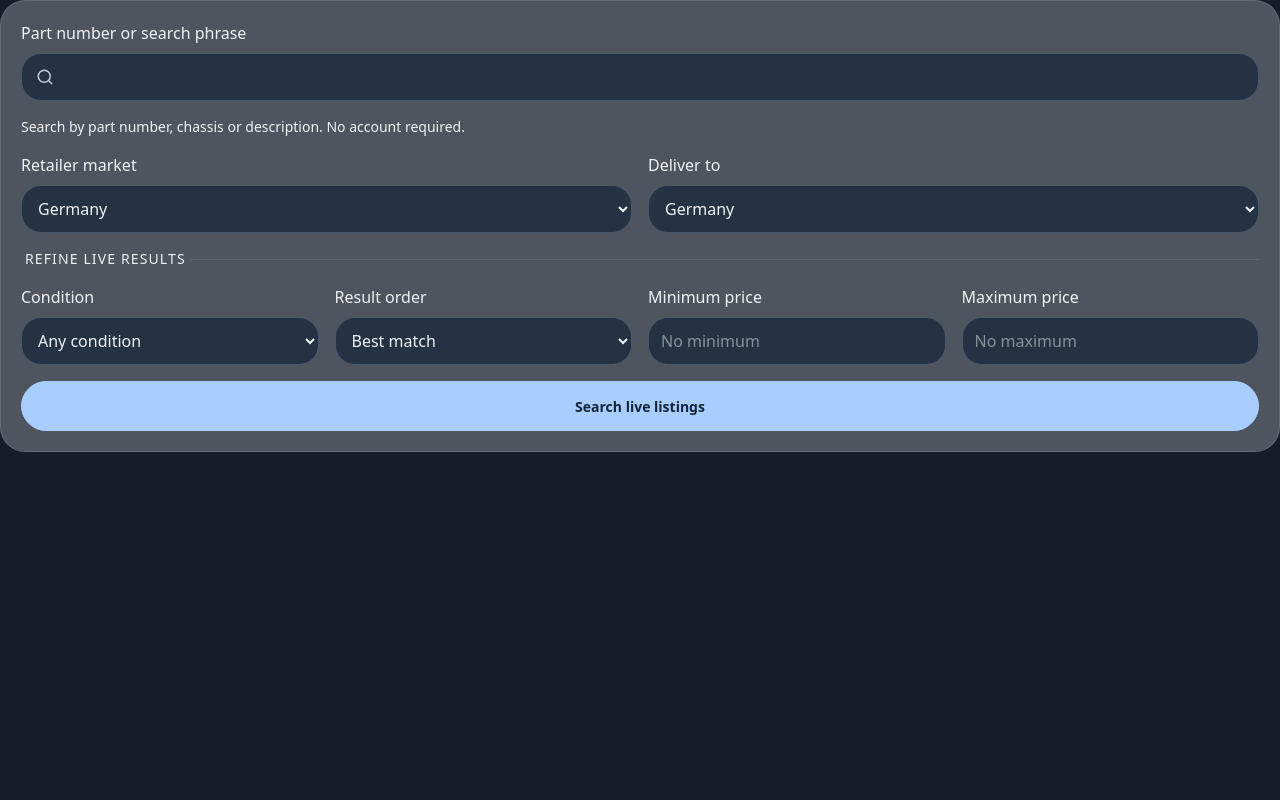
Scenario: times out a stalled request and enables an explicit retry
Type "E90" into the search field. click: (640, 77)
box: [21,53,1259,101]
Wait 25500 ms
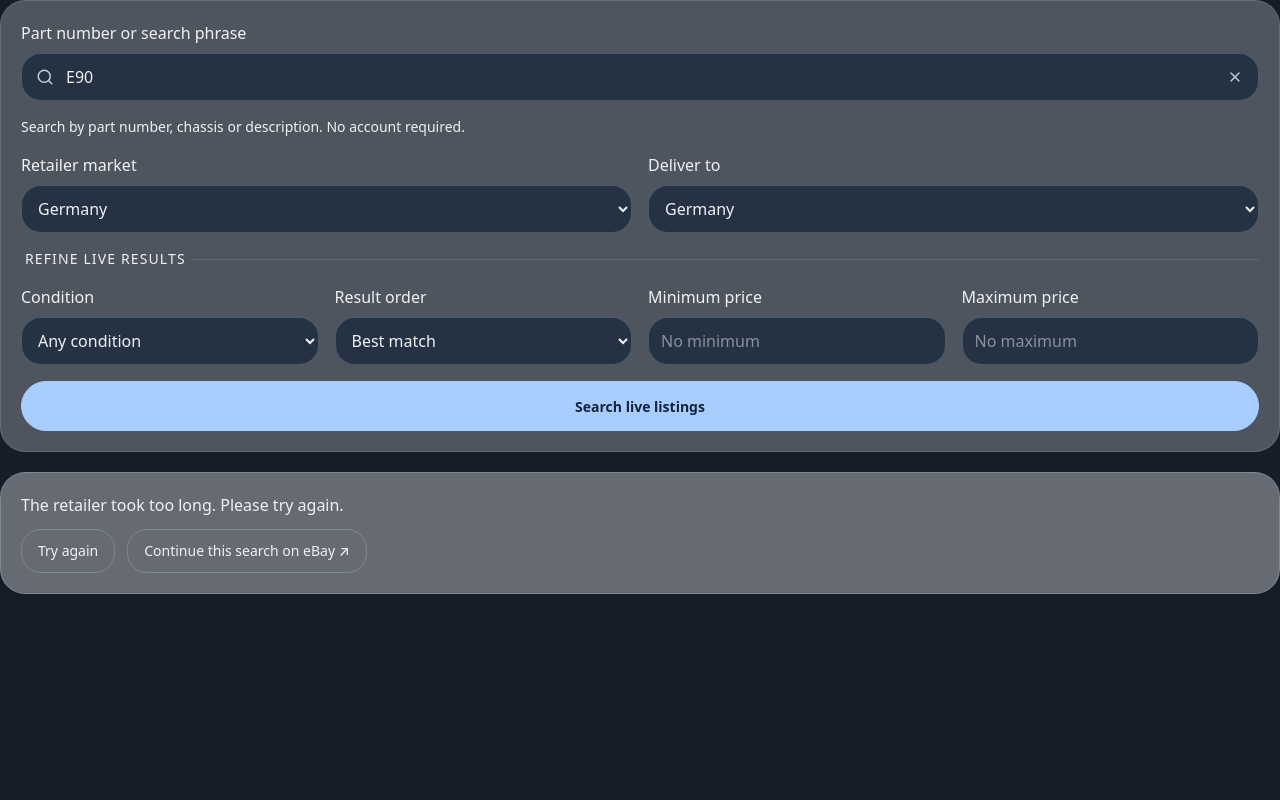
Expected: the message shows "took too long", [21,494,344,516]
Expected: the button "Try again" is enabled, [21,529,115,573]
